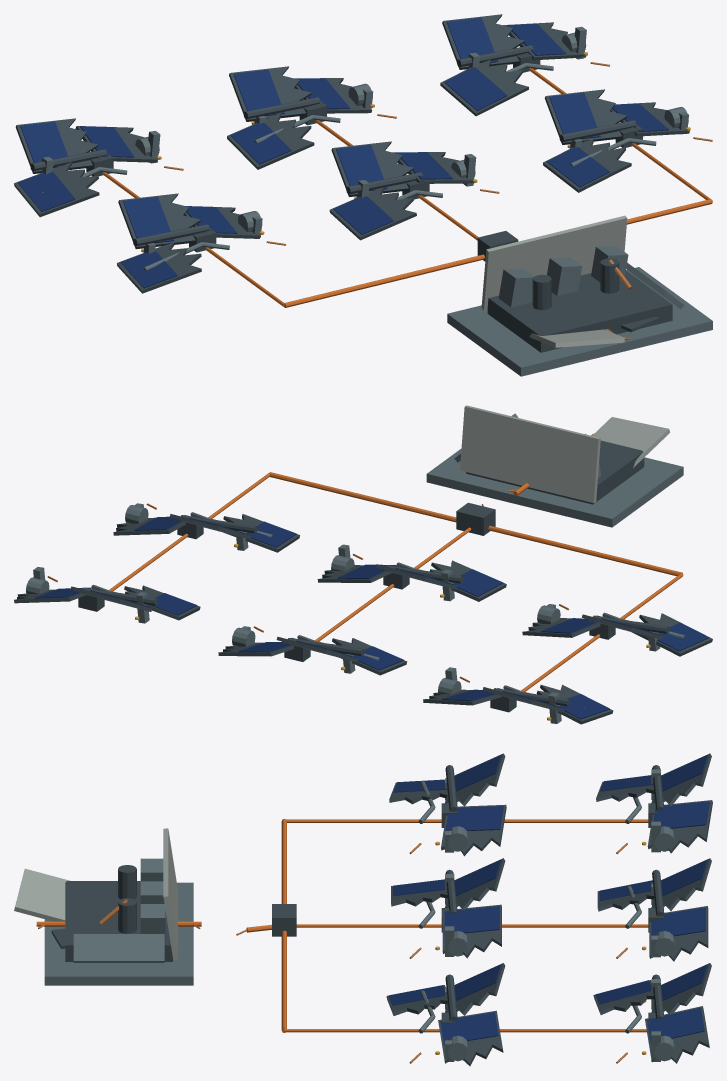
The model's file is solar_power_complex_d3.glb.
3 renders of one model, top to bottom at view 1: azimuth 30°, elevation 25°; view 2: azimuth 150°, elevation 25°; view 3: azimuth 270°, elevation 25°, orthographic. The views are drawn at different scales.
Parts seen in each view (by area): view 1: SOLAR_GAME_MESH; view 2: SOLAR_GAME_MESH; view 3: SOLAR_GAME_MESH.
Part boxes in pixels (x1=…): SOLAR_GAME_MESH: x1=14, y1=14, x2=712, y2=376; SOLAR_GAME_MESH: x1=14, y1=405, x2=712, y2=724; SOLAR_GAME_MESH: x1=14, y1=753, x2=712, y2=1066.
Bounding box in the file's own units: 16.33 × 2.04 × 16.92.
